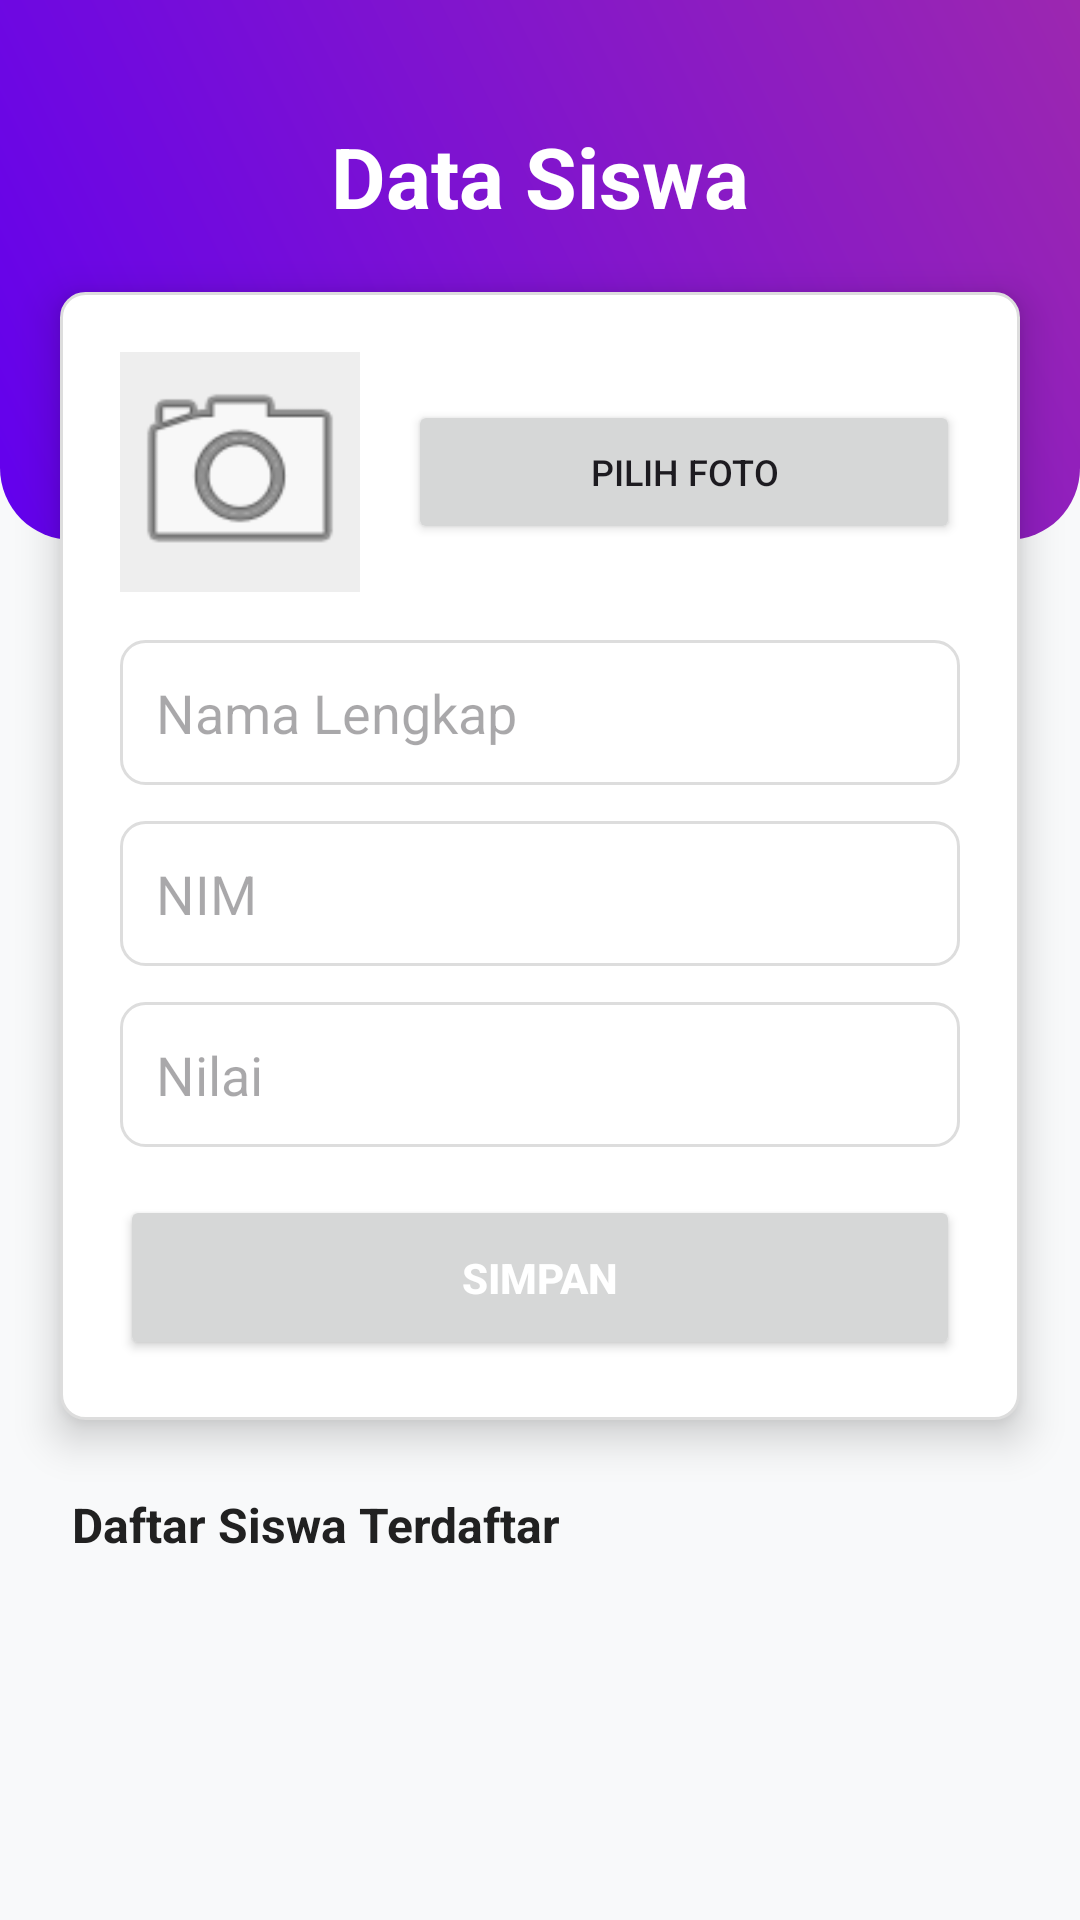

Icons on this 1080 × 1920 Android screen, each with its box as (x1, y1, x2, y2):
camera: (120, 352, 360, 592)
